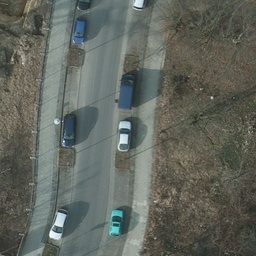car: (110, 70, 144, 104), (48, 206, 69, 238), (61, 114, 78, 145), (118, 120, 132, 152), (108, 208, 123, 237), (72, 19, 86, 47), (133, 1, 145, 12), (74, 1, 90, 9)
